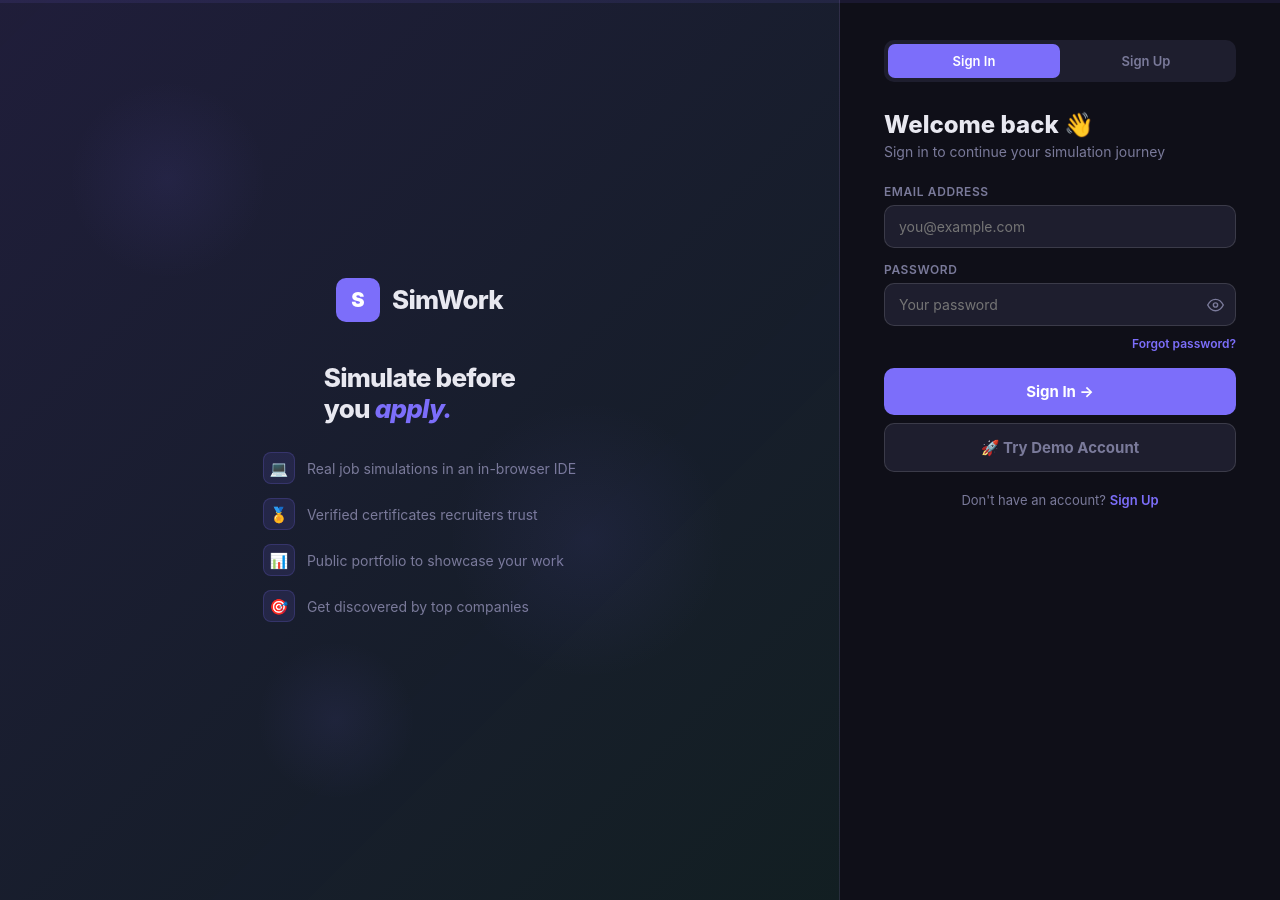
Test: 🔐 Auth Page › ✅ Shows error for wrong credentials
This screenshot has width=1280, height=900.
Type "wrong@test.com" into the field with placeholder "you@example.com". click: [1060, 226]
box: [884,205,1236,248]
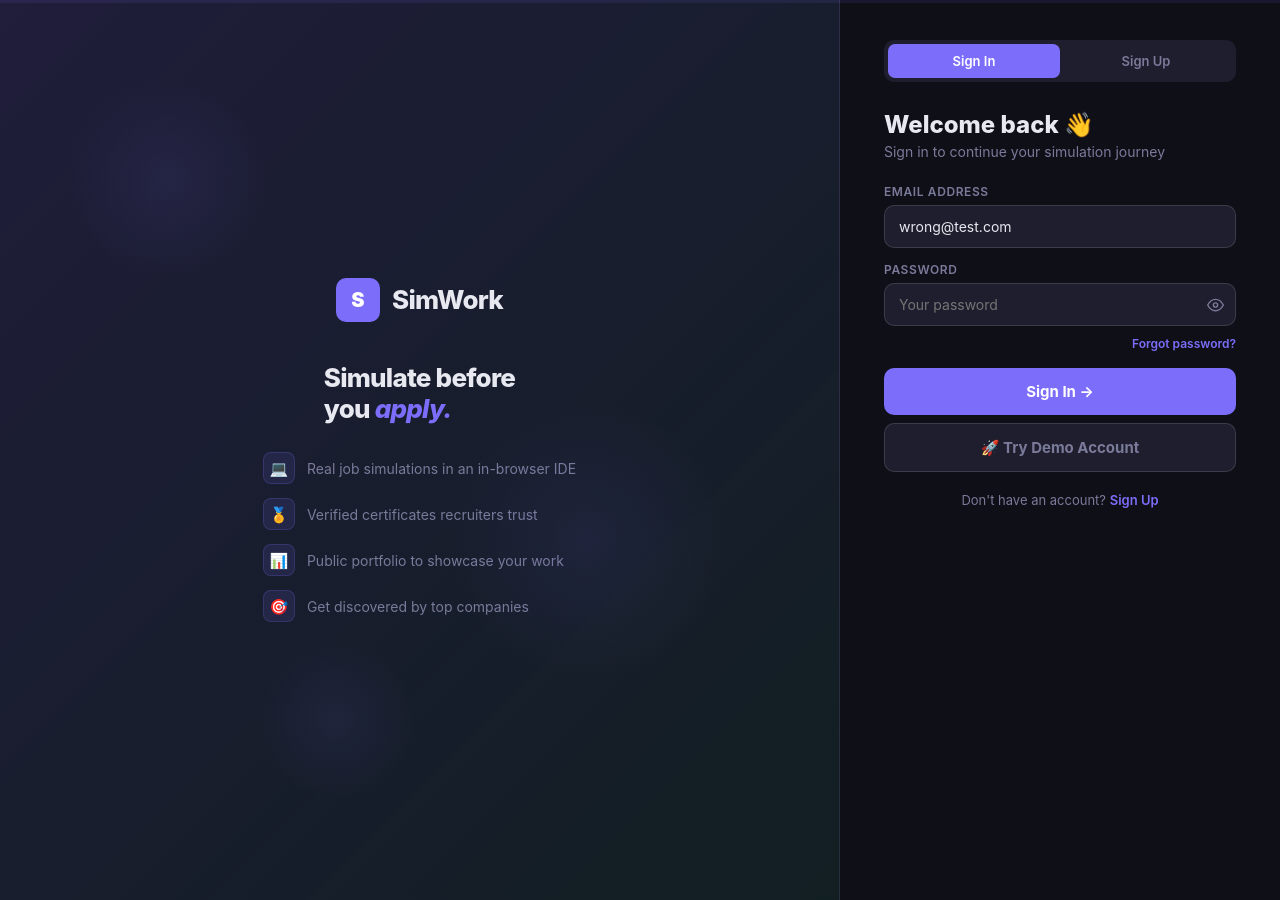
Type "wrongpass" into the password field with placeholder "Your password". click: [1060, 304]
box: [884,283,1236,326]
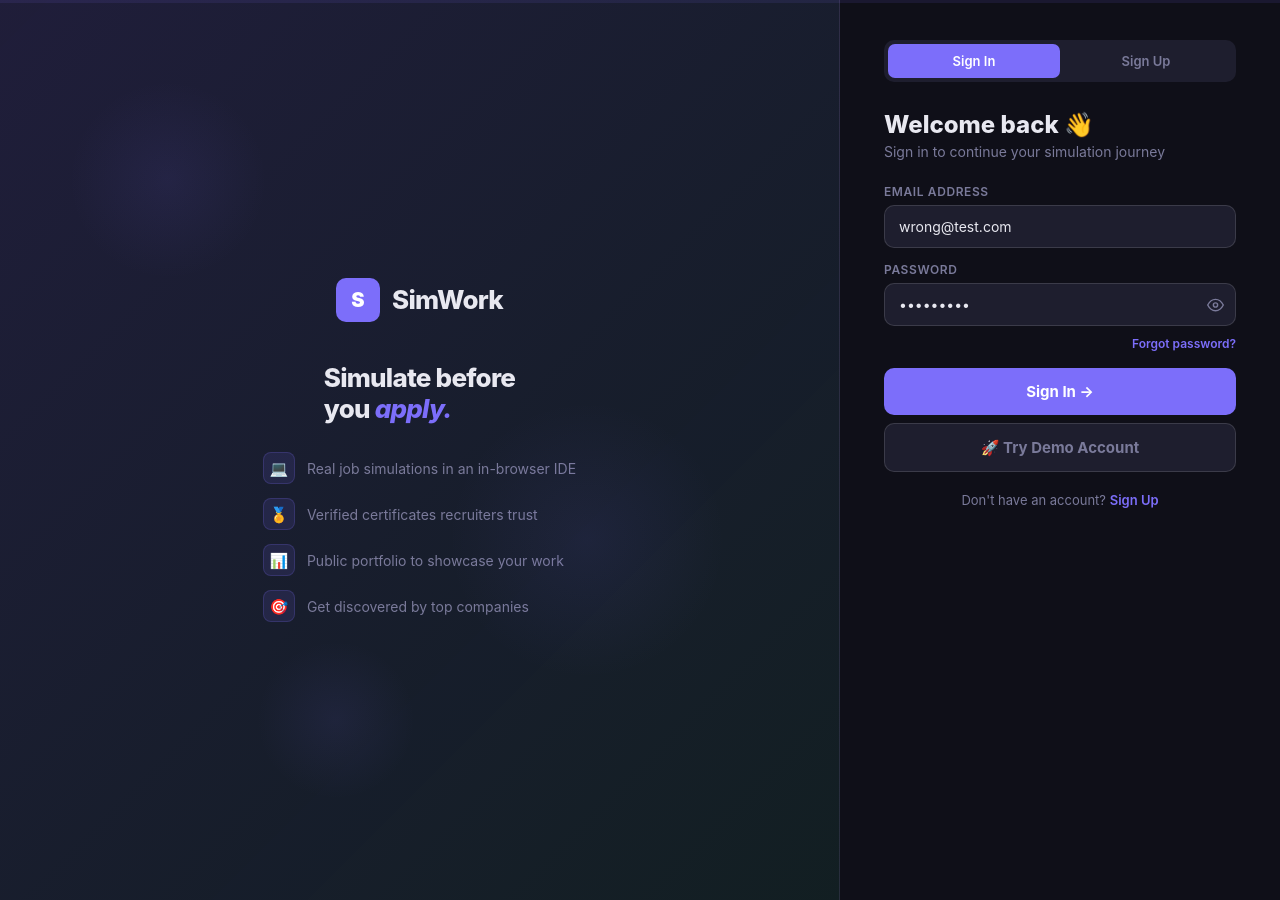
Click the button "Sign In →". click: [1060, 392]
box: [884,368,1236,415]
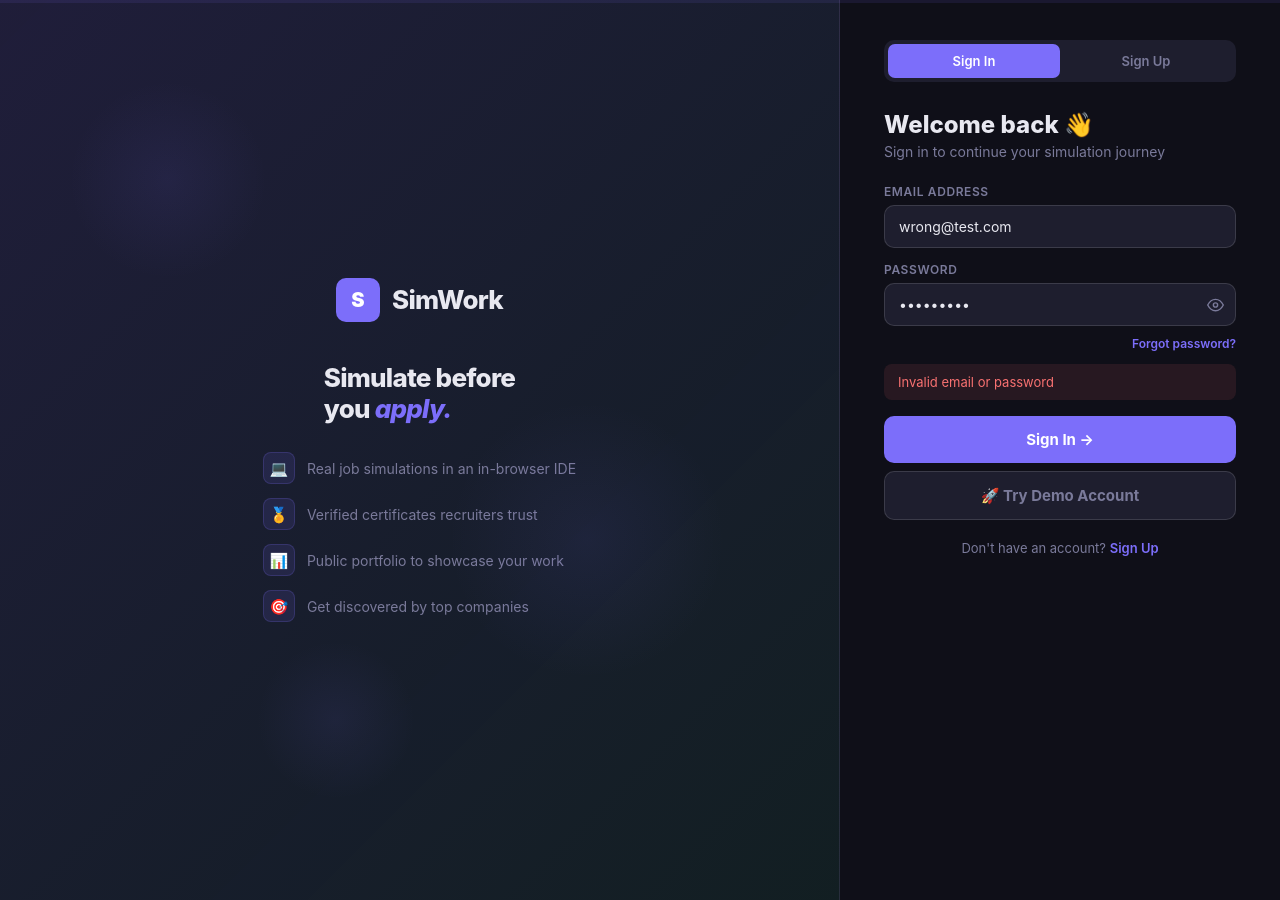
Expected: the text "Invalid email or password" is shown, [884,364,1236,400]
